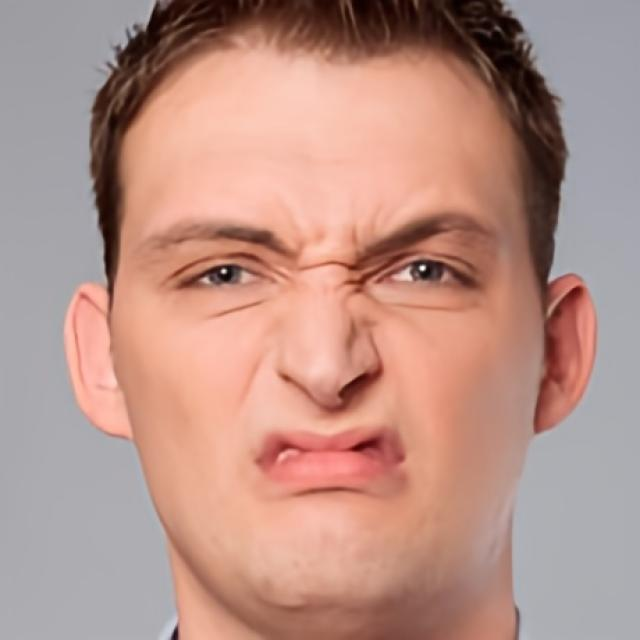disgust: (109, 17, 546, 614)
